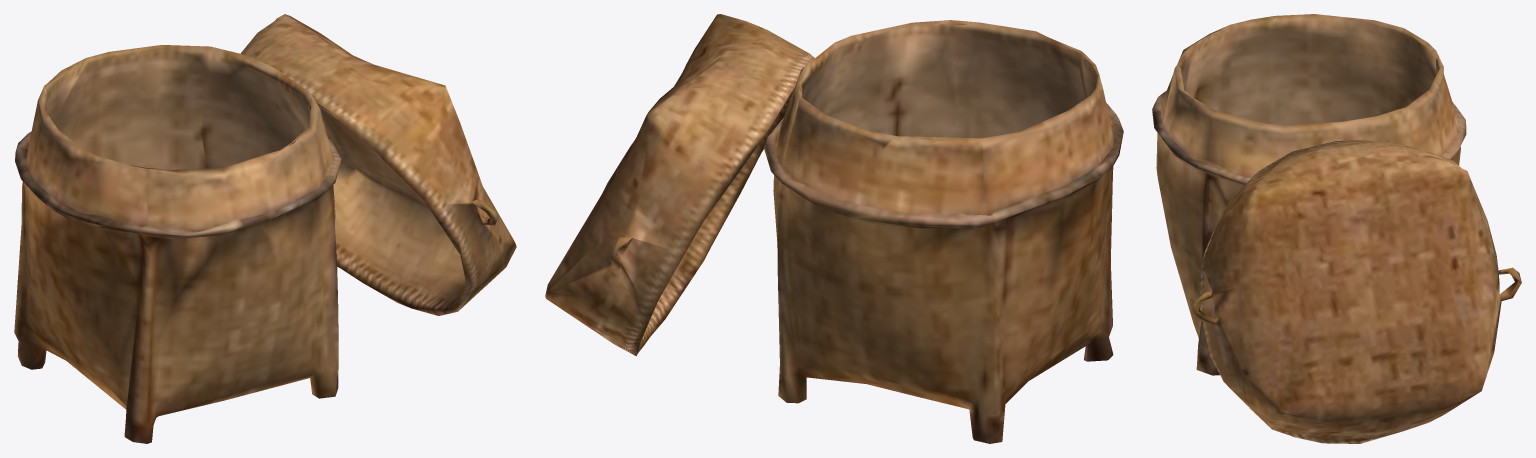
The model's file is basket.glb.
The picture shows the model from 3 angles, left to right: view 1: azimuth 30°, elevation 25°; view 2: azimuth 150°, elevation 25°; view 3: azimuth 270°, elevation 25°; orthographic projection. The views are drawn at different scales.
Visible parts, largest first — view 1: wicker_basket_02_base, wicker_basket_02_lid; view 2: wicker_basket_02_base, wicker_basket_02_lid; view 3: wicker_basket_02_lid, wicker_basket_02_base.
Part boxes in pixels (box(x1,y1,x2,y2)): wicker_basket_02_base: box(14, 45, 341, 443); wicker_basket_02_lid: box(241, 14, 516, 315); wicker_basket_02_base: box(763, 20, 1123, 443); wicker_basket_02_lid: box(545, 14, 814, 356); wicker_basket_02_lid: box(1193, 140, 1521, 443); wicker_basket_02_base: box(1152, 14, 1466, 375).
Size of the model in its own units: 0.3469 by 0.2003 by 0.2541.
Materials: 1 (1 with a texture image).
